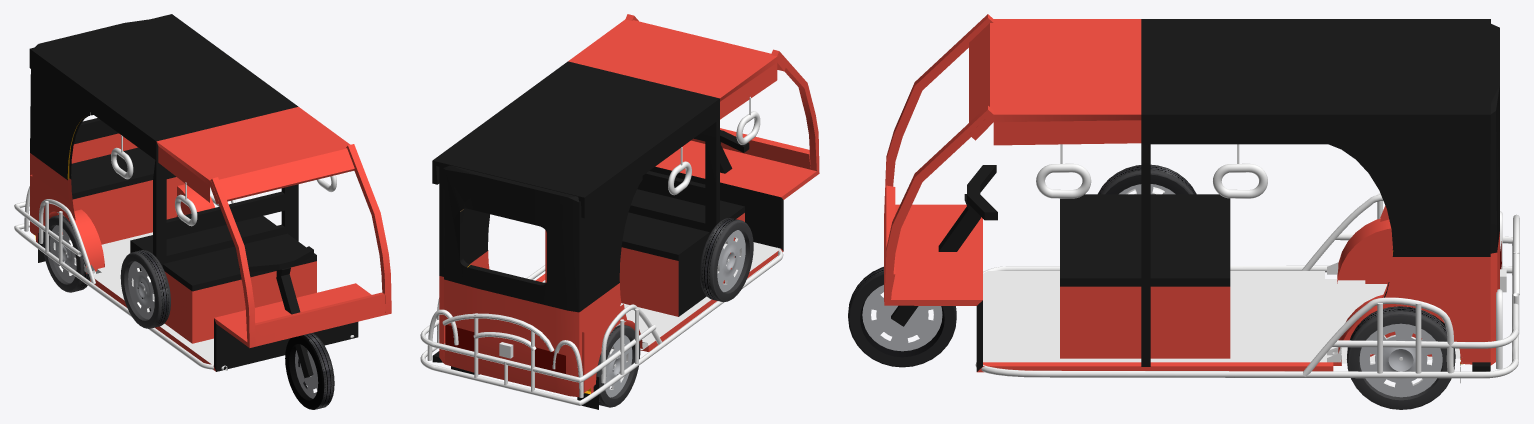
File: auto.glb
3 renders of one model, left to right at view 1: azimuth 30°, elevation 25°; view 2: azimuth 150°, elevation 25°; view 3: azimuth 270°, elevation 25°, orthographic. The views are drawn at different scales.
Visible parts, largest first — view 1: Object_4, Object_5, Object_3; view 2: Object_4, Object_5, Object_6, Object_3; view 3: Object_4, Object_5, Object_3.
Part boxes in pixels (box(x1,y1,x2,y2)): Object_4: box(14, 14, 391, 371); Object_5: box(42, 147, 334, 409); Object_3: box(38, 233, 313, 378); Object_4: box(420, 14, 819, 405); Object_5: box(478, 189, 753, 407); Object_6: box(445, 325, 565, 373); Object_3: box(451, 130, 749, 409); Object_4: box(884, 14, 1519, 378); Object_5: box(848, 164, 1506, 409); Object_3: box(891, 165, 1460, 382).
Size of the model in its own units: 3.21 by 4.02 by 8.01.
Materials: 2 (1 with a texture image).
